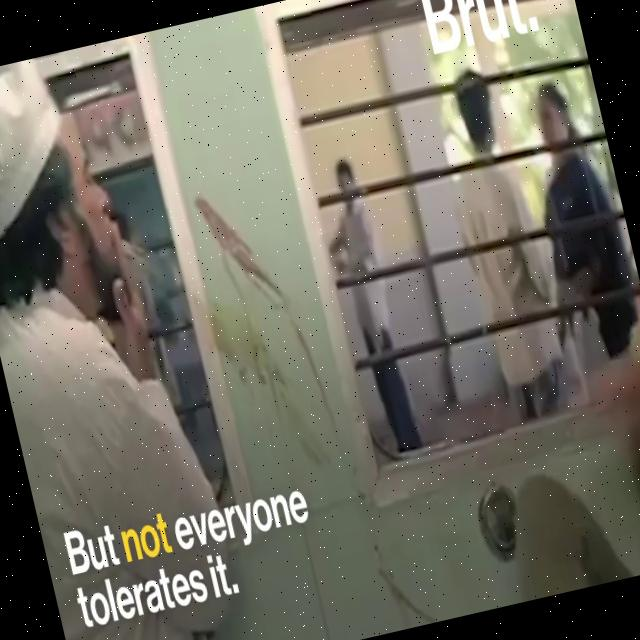spit: (0, 51, 269, 374)
